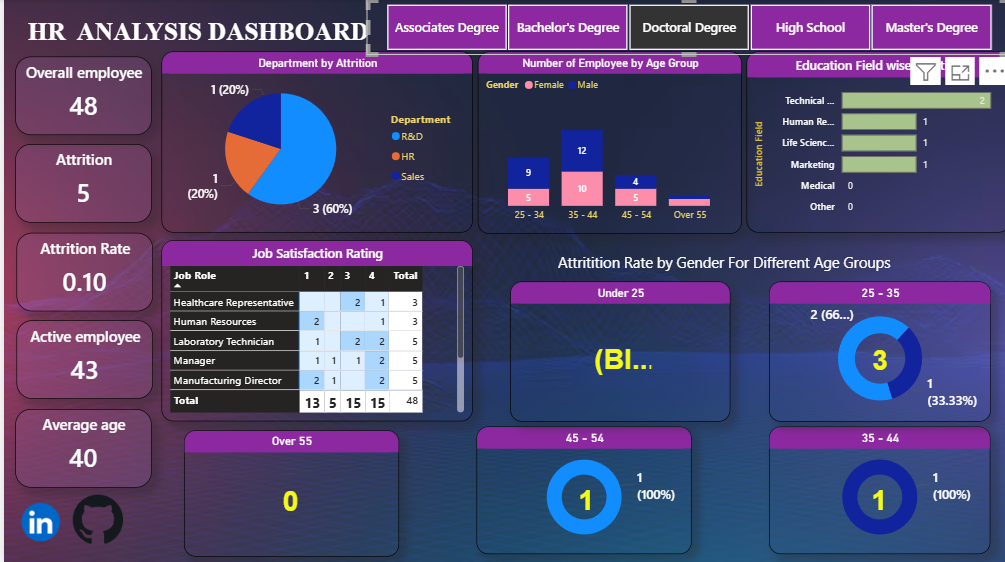

The page's visual inventory and layout, read from the dashboard file:
{"tool":"powerbi","page":{"name":"Page 1","canvas":[1280,720],"ordinal":0},"visuals":[{"type":"card","title":"Overall employee","fields":{"Values":["Sum(HR data.Employee Count)"]},"box":[14.3,73.1,173.3,100],"z":0},{"type":"card","title":"Attrition","fields":{"Values":["Sum(HR data.Attition count)"]},"box":[14.3,185.2,173.3,100],"z":1000},{"type":"card","title":"Attrition Rate","fields":{"Values":["HR data.attrition rate"]},"box":[15.9,297.3,173.3,100],"z":2000},{"type":"card","title":"Active employee","fields":{"Values":["HR data.New employees"]},"box":[15.9,409.4,173.3,100],"z":3000},{"type":"card","title":"Average age","fields":{"Values":["Avg(HR data.Age)"]},"box":[14.3,521.4,173.2,100],"z":4000},{"type":"textbox","box":[25.4,17.5,453.2,66.8],"z":5000},{"type":"pieChart","title":"Department by Attrition","fields":{"Category":["HR data.Department"],"Y":["Sum(HR data.Attition count)"]},"box":[200.4,66.8,395.9,230.6],"z":6000},{"type":"columnChart","title":"Number of Employee by Age Group","fields":{"Category":["HR data.CF_age band"],"Y":["Sum(HR data.Employee Count)"],"Series":["HR data.Gender"]},"box":[602.5,66.1,335.7,232.1],"z":7000},{"type":"pivotTable","title":"Job Satisfaction Rating","fields":{"Rows":["HR data.Job Role"],"Columns":["HR data.Job Satisfaction"],"Values":["Sum(HR data.Employee Count)"]},"box":[200.4,306.9,395.9,230.6],"z":8000},{"type":"barChart","title":"Education Field wise Attrition","fields":{"Category":["HR data.Education Field"],"Y":["Sum(HR data.Attition count)"]},"box":[944.5,66.8,335.5,230.6],"z":9000},{"type":"donutChart","title":"35 - 44","fields":{"Category":["HR data.Gender"],"Y":["Sum(HR data.Attition count)"],"Series":["HR data.CF_age band"]},"box":[973.2,543.8,281.5,162.2],"z":10000},{"type":"textbox","box":[699.7,318,472.3,38.2],"z":11000},{"type":"donutChart","title":"45 - 54","fields":{"Category":["HR data.Gender"],"Y":["Sum(HR data.Attition count)"],"Series":["HR data.CF_age band"]},"box":[600.7,543.8,273.5,162.2],"z":12000},{"type":"donutChart","title":"25 - 35","fields":{"Category":["HR data.Gender"],"Y":["Sum(HR data.Attition count)"],"Series":["HR data.CF_age band"]},"box":[973.2,358.9,282.1,178.6],"z":13000},{"type":"donutChart","title":"Over 55","fields":{"Category":["HR data.Gender"],"Y":["Sum(HR data.Attition count)"],"Series":["HR data.CF_age band"]},"box":[228.6,548.2,273.2,160.7],"z":14000},{"type":"donutChart","title":"Under 25","fields":{"Category":["HR data.Gender"],"Y":["Sum(HR data.Attition count)"],"Series":["HR data.CF_age band"]},"box":[644.6,358.9,280.4,178.6],"z":15000},{"type":"slicer","fields":{"Values":["HR data.Education"]},"box":[461.1,0,818.9,71.6],"z":16000},{"type":"advanceCardE03760C5AB684758B56AA29F9E6C257B","fields":{"mainMeasure":["Sum(HR data.Attition count)"]},"box":[741.1,423.2,87.5,71.4],"z":17000},{"type":"advanceCardE03760C5AB684758B56AA29F9E6C257B","fields":{"mainMeasure":["Sum(HR data.Attition count)"]},"box":[1026.8,557.1,173.2,162.5],"z":18000},{"type":"advanceCardE03760C5AB684758B56AA29F9E6C257B","fields":{"mainMeasure":["Sum(HR data.Attition count)"]},"box":[653.6,557.1,175,162.5],"z":19000},{"type":"advanceCardE03760C5AB684758B56AA29F9E6C257B","fields":{"mainMeasure":["Sum(HR data.Attition count)"]},"box":[1071.4,423.2,85.7,73.2],"z":20000},{"type":"image","box":[14.3,619.6,65,90],"z":21000},{"type":"image","box":[87.5,625,64.3,75],"z":22000},{"type":"advanceCardE03760C5AB684758B56AA29F9E6C257B","fields":{"mainMeasure":["Sum(HR data.Attition count)"]},"box":[300.9,587.8,128.3,102.6],"z":23000}]}

Visuals, with their boxes in screenshot pixels (x1, y1, x2, y2), scaled from the page's 1280x720 canvas onto the 1005x562 screenshot:
"Overall employee" card: x1=11, y1=57, x2=147, y2=135
"Attrition" card: x1=11, y1=145, x2=147, y2=223
"Attrition Rate" card: x1=12, y1=232, x2=149, y2=310
"Active employee" card: x1=12, y1=320, x2=149, y2=398
"Average age" card: x1=11, y1=407, x2=147, y2=485
textbox: x1=20, y1=14, x2=376, y2=66
"Department by Attrition" pieChart: x1=157, y1=52, x2=468, y2=232
"Number of Employee by Age Group" columnChart: x1=473, y1=52, x2=737, y2=233
"Job Satisfaction Rating" pivotTable: x1=157, y1=240, x2=468, y2=420
"Education Field wise Attrition" barChart: x1=742, y1=52, x2=1004, y2=232
"35 - 44" donutChart: x1=764, y1=424, x2=985, y2=551
textbox: x1=549, y1=248, x2=920, y2=278
"45 - 54" donutChart: x1=472, y1=424, x2=686, y2=551
"25 - 35" donutChart: x1=764, y1=280, x2=986, y2=420
"Over 55" donutChart: x1=179, y1=428, x2=394, y2=553
"Under 25" donutChart: x1=506, y1=280, x2=726, y2=420
slicer - HR data.Education: x1=362, y1=0, x2=1004, y2=56
advanceCardE03760C5AB684758B56AA29F9E6C257B - Sum(HR data.Attition count): x1=582, y1=330, x2=651, y2=386
advanceCardE03760C5AB684758B56AA29F9E6C257B - Sum(HR data.Attition count): x1=806, y1=435, x2=942, y2=561
advanceCardE03760C5AB684758B56AA29F9E6C257B - Sum(HR data.Attition count): x1=513, y1=435, x2=651, y2=561
advanceCardE03760C5AB684758B56AA29F9E6C257B - Sum(HR data.Attition count): x1=841, y1=330, x2=909, y2=387
image: x1=11, y1=484, x2=62, y2=554
image: x1=69, y1=488, x2=119, y2=546
advanceCardE03760C5AB684758B56AA29F9E6C257B - Sum(HR data.Attition count): x1=236, y1=459, x2=337, y2=539
